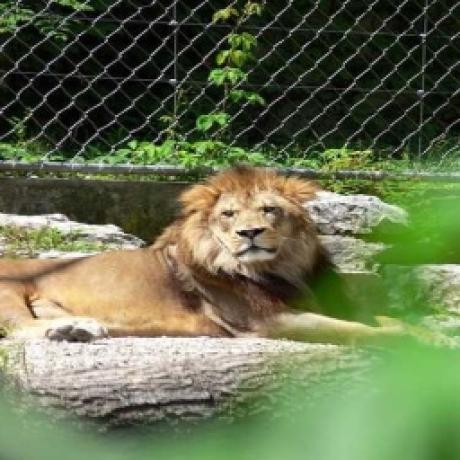Lion: (0, 161, 377, 354)
